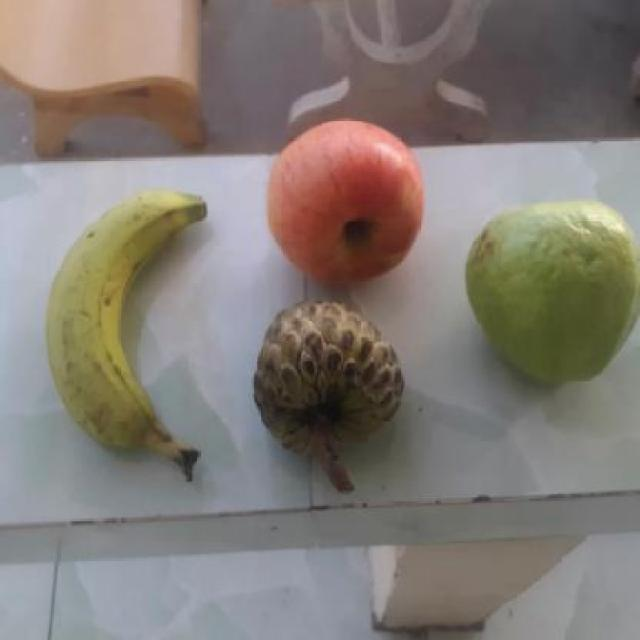apple: (51, 190, 214, 462)
guava: (472, 207, 640, 384)
pear: (262, 118, 433, 284)
sugar apple: (255, 302, 414, 467)
